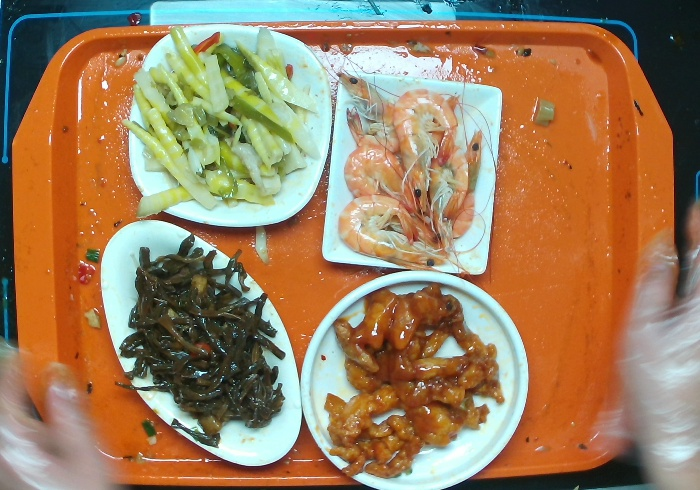HZYJPL-Si_Fang_Die: (317, 74, 508, 275)
HZYJPL-Si_Fang_Yuan_Die: (125, 21, 332, 233)
HZYJPL-Xiao_Yu_Die: (100, 220, 301, 471)
HZYJPL-Xiao_Yuan_Die: (298, 272, 532, 490)
